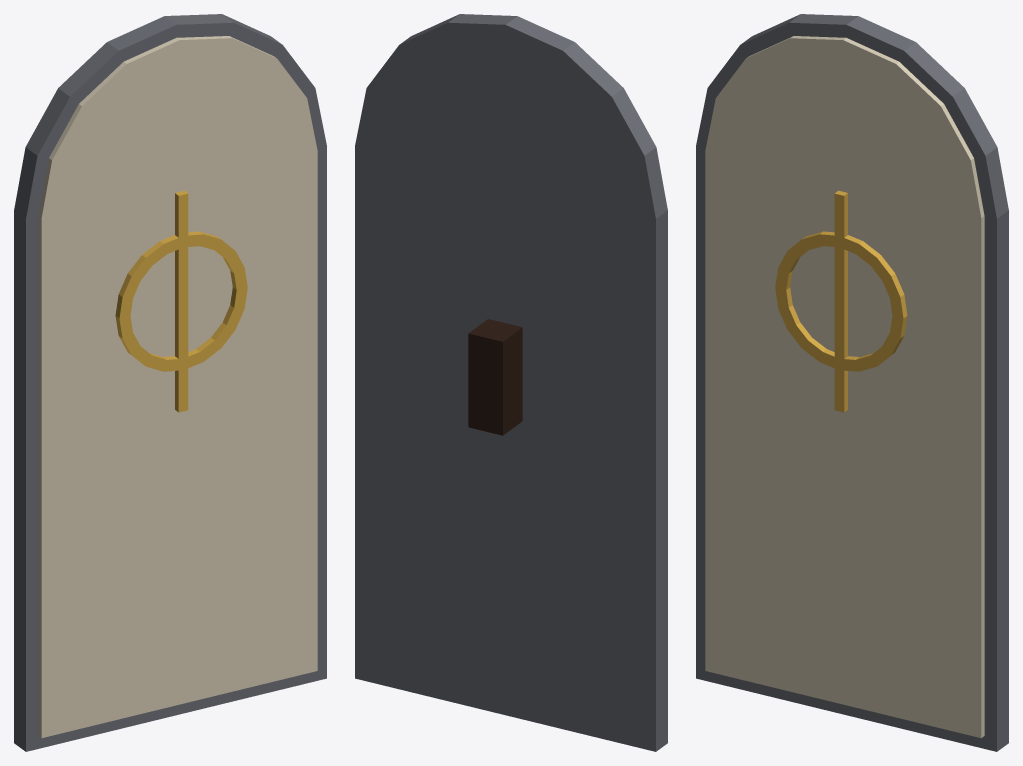
File: tablet.glb
3 renders of one model, left to right at view 1: azimuth 30°, elevation 25°; view 2: azimuth 150°, elevation 25°; view 3: azimuth 330°, elevation 25°, orthographic.
Parts seen in each view (by area): view 1: Tablet; view 2: Tablet; view 3: Tablet.
Part boxes in pixels (x1=…): Tablet: x1=14, y1=14, x2=326, y2=751; Tablet: x1=355, y1=14, x2=667, y2=751; Tablet: x1=696, y1=14, x2=1008, y2=751.
Size of the model in its own units: 0.436 by 0.956 by 0.098.
